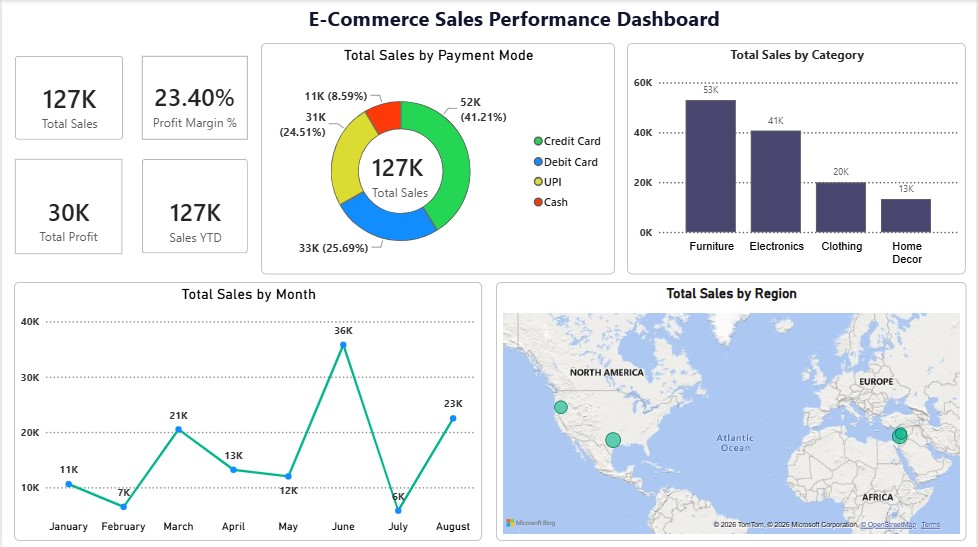

What the dashboard file says about the page in this screenshot:
{"tool":"powerbi","page":{"name":"Page 1","canvas":[1280,720],"ordinal":0},"visuals":[{"type":"cardVisual","fields":{"Data":["Sales.Total Sales"]},"box":[0,56.5,176.1,144.5],"z":0},{"type":"cardVisual","fields":{"Data":["Sales.Total Profit"]},"box":[0,191.8,175.9,159.3],"z":1000},{"type":"cardVisual","fields":{"Data":["Sales.Profit Margin %"]},"box":[166.9,56.5,173.4,144.5],"z":2000},{"type":"cardVisual","fields":{"Data":["Sales.Sales YTD"]},"box":[166.9,191.8,173.4,159],"z":3000},{"type":"lineChart","fields":{"Category":["Sales.OrderDate.Variation.Date Hierarchy.Month"],"Y":["Sales.Total Sales"]},"box":[15.8,370.5,614.9,340.3],"z":4000},{"type":"columnChart","fields":{"Category":["Sales.Category"],"Y":["Sales.Total Sales"]},"box":[821.2,56.5,445.4,303.5],"z":5000},{"type":"donutChart","title":"Total Sales by Payment Mode","fields":{"Category":["Sales.PaymentMode"],"Y":["Sales.Total Sales"]},"box":[340.3,56.5,465.1,303.5],"z":6000},{"type":"map","fields":{"Category":["Sales.Region"],"Size":["Sales.Total Sales"]},"box":[649.1,370.5,617.5,340.3],"z":7000},{"type":"textbox","box":[390.6,0,565.2,45.7],"z":8000},{"type":"cardVisual","fields":{"Data":["Sales.Total Sales"]},"box":[457.1,178.7,137.1,102.5],"z":8001}]}

Visuals, with their boxes in screenshot pixels (x1, y1, x2, y2), scaled from the page's 1280x720 canvas onto the 978x547 screenshot:
cardVisual - Sales.Total Sales: [x1=0, y1=43, x2=135, y2=153]
cardVisual - Sales.Total Profit: [x1=0, y1=146, x2=134, y2=267]
cardVisual - Sales.Profit Margin %: [x1=128, y1=43, x2=260, y2=153]
cardVisual - Sales.Sales YTD: [x1=128, y1=146, x2=260, y2=267]
lineChart - Sales.OrderDate.Variation.Date Hierarchy.Month x Sales.Total Sales: [x1=12, y1=281, x2=482, y2=540]
columnChart - Sales.Category x Sales.Total Sales: [x1=627, y1=43, x2=968, y2=274]
"Total Sales by Payment Mode" donutChart: [x1=260, y1=43, x2=615, y2=274]
map - Sales.Region x Sales.Total Sales: [x1=496, y1=281, x2=968, y2=540]
textbox: [x1=298, y1=0, x2=730, y2=35]
cardVisual - Sales.Total Sales: [x1=349, y1=136, x2=454, y2=214]
